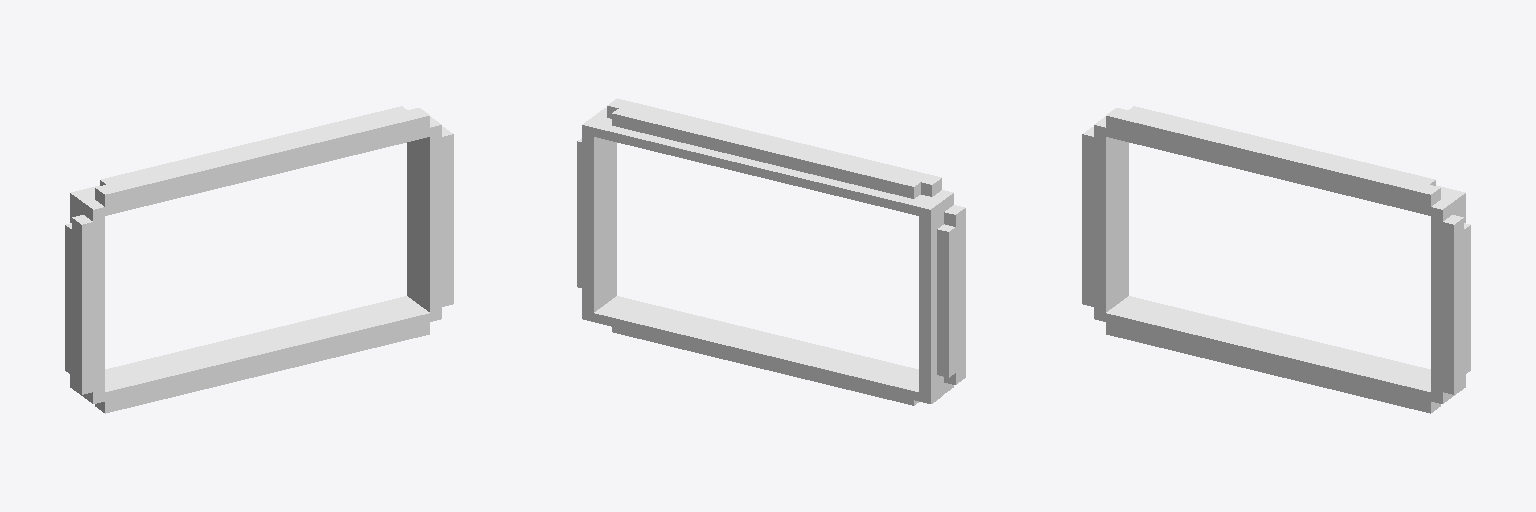
Rendered from ObjStageSelect.obj.
3 renders of one model, left to right at view 1: azimuth 30°, elevation 25°; view 2: azimuth 150°, elevation 25°; view 3: azimuth 330°, elevation 25°, orthographic.
Visible parts, largest first — view 1: object 1; view 2: object 1; view 3: object 1.
Part boxes in pixels (left/top/right/bottom): object 1: left=65, top=106, right=453, bottom=413; object 1: left=577, top=98, right=965, bottom=405; object 1: left=1082, top=106, right=1470, bottom=413.
Size of the model in its own units: 12.8 by 7.2 by 1.4.